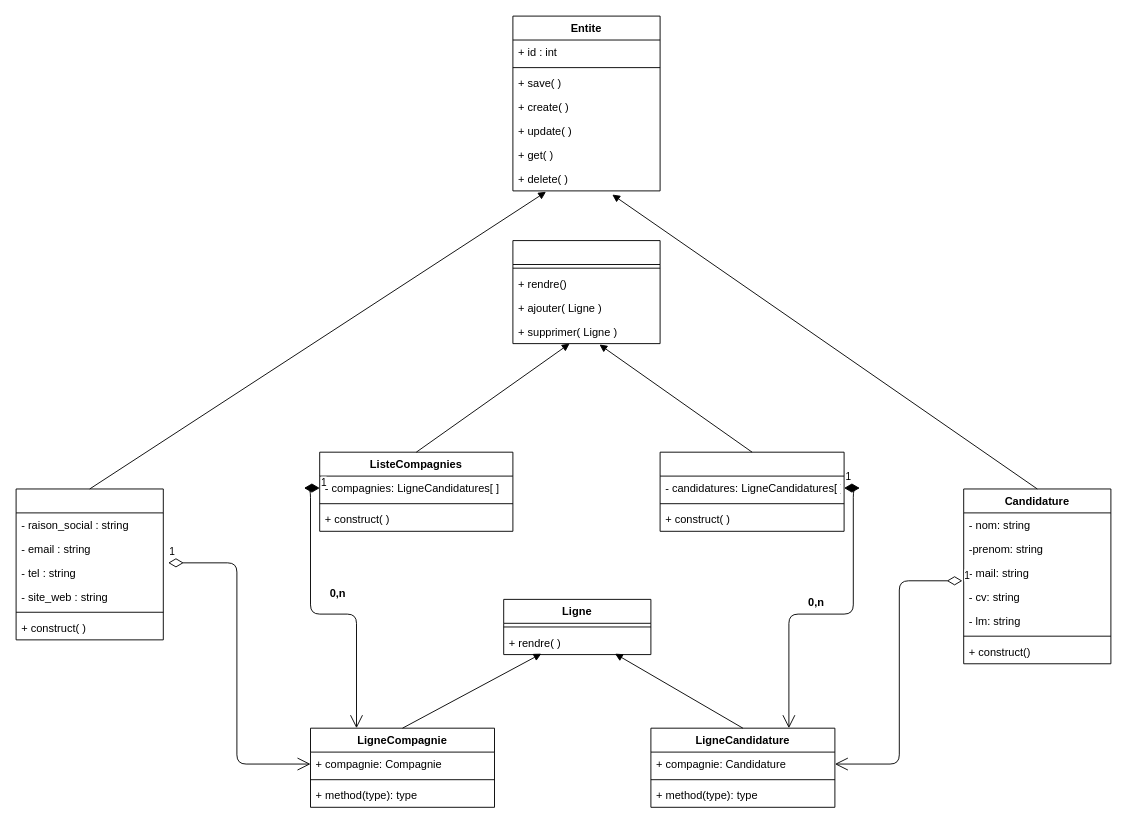
Some shapes in this 1127 by 826 pixel diagram are drawn without their labels. The shapes that lost their labels are listed below. From the top down, each one's box as (x1, y1, x2, y2) in pixels, then its label:
(512, 240, 660, 344): Liste
(659, 451, 844, 531): ListeCandidatures
(15, 488, 163, 640): Compagnie
